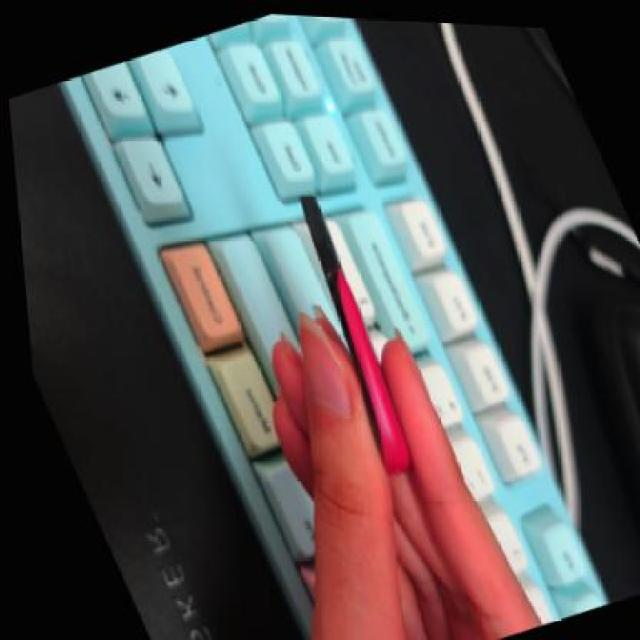Flashdisk: (259, 182, 427, 475)
